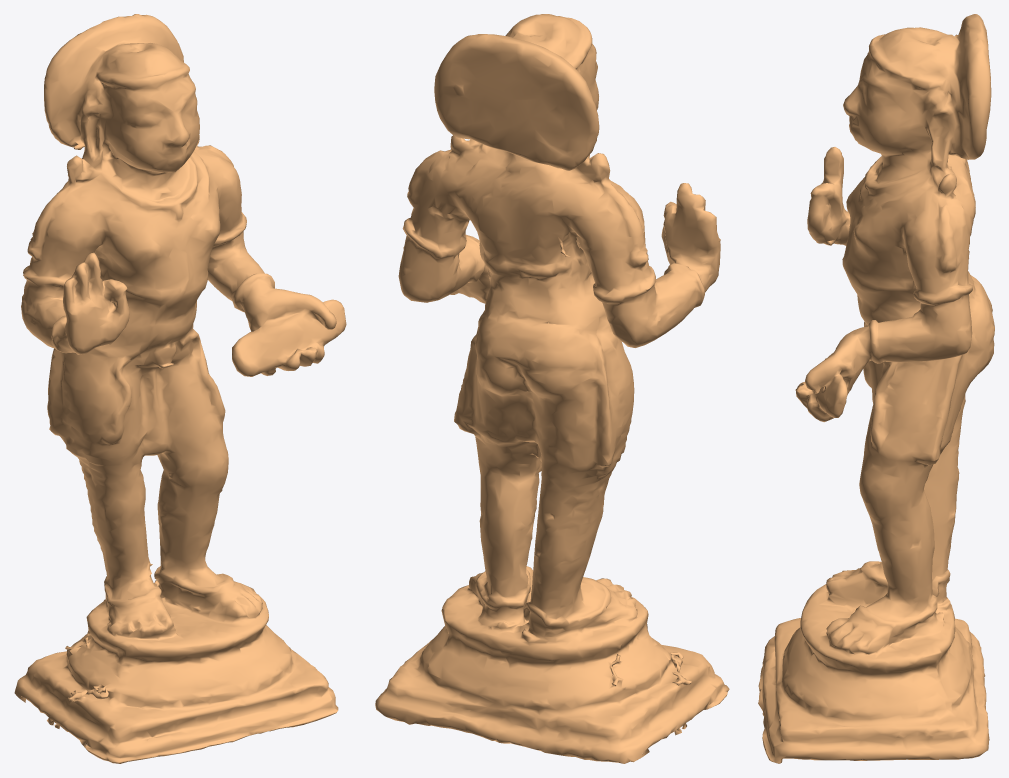
The model's file is Saivam_Manikkavasakar_08.glb.
3 views of the same model, side by side, from view 1: azimuth 30°, elevation 25°; view 2: azimuth 150°, elevation 25°; view 3: azimuth 270°, elevation 25° (orthographic). The views are drawn at different scales.
Visible parts, largest first — view 1: Saivam_Manikkavasakar_08; view 2: Saivam_Manikkavasakar_08; view 3: Saivam_Manikkavasakar_08.
Part boxes in pixels (x1=…): Saivam_Manikkavasakar_08: x1=14, y1=14, x2=346, y2=763; Saivam_Manikkavasakar_08: x1=375, y1=14, x2=729, y2=763; Saivam_Manikkavasakar_08: x1=758, y1=14, x2=994, y2=763.
Size of the model in its own units: 0.3559 by 0.7821 by 0.2489.
